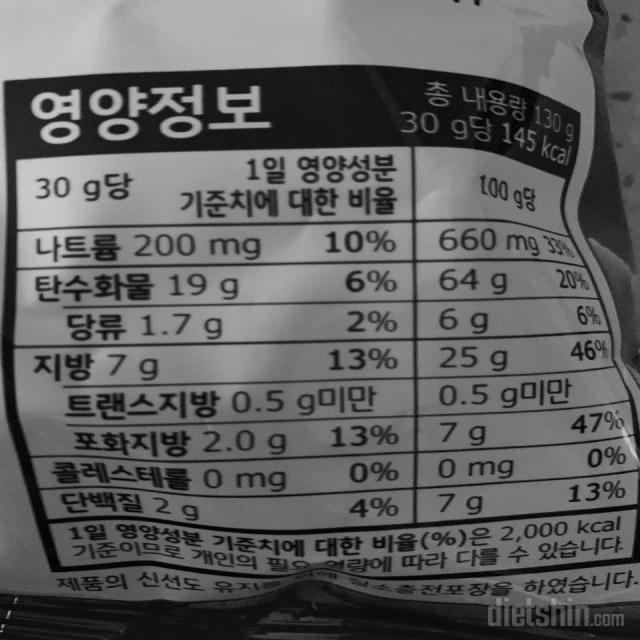Nutrition Label: (0, 58, 640, 601)
